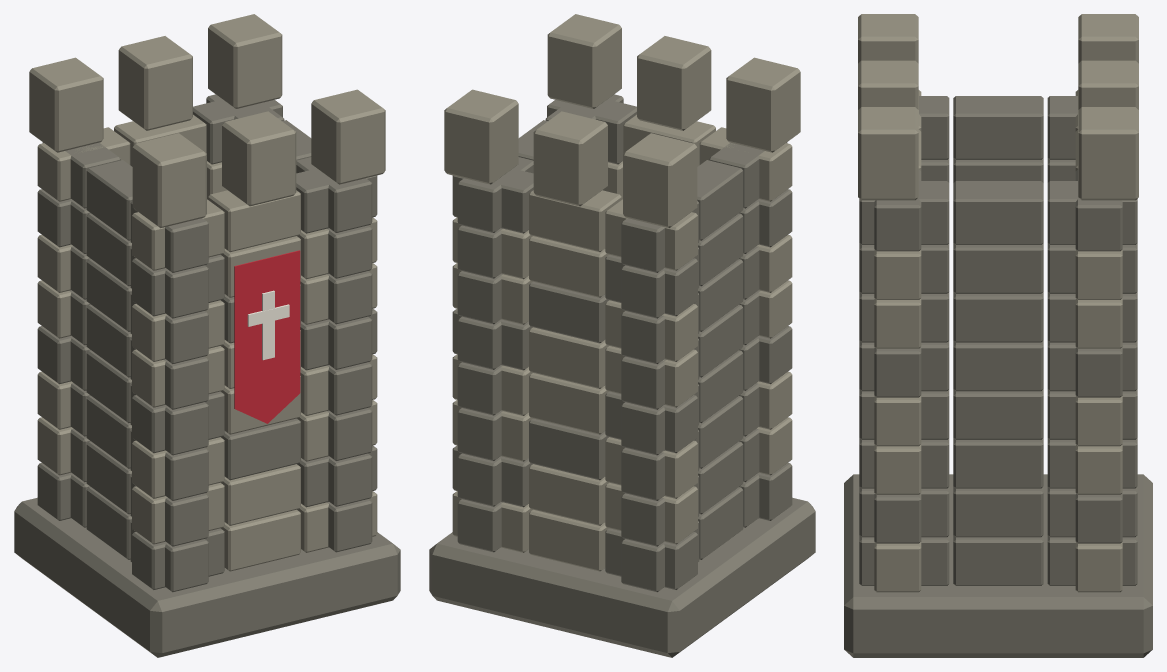
File: prop_watchtower_red.glb
3 views of the same model, side by side, from view 1: azimuth 30°, elevation 25°; view 2: azimuth 150°, elevation 25°; view 3: azimuth 270°, elevation 25° (orthographic). The views are drawn at different scales.
Visible parts, largest first — view 1: prop_watchtower_red; view 2: prop_watchtower_red; view 3: prop_watchtower_red.
Part boxes in pixels (x1=…): prop_watchtower_red: x1=14, y1=14, x2=400, y2=657; prop_watchtower_red: x1=429, y1=14, x2=815, y2=657; prop_watchtower_red: x1=844, y1=14, x2=1152, y2=657.
Size of the model in its own units: 2.3 by 4.31 by 2.3.
